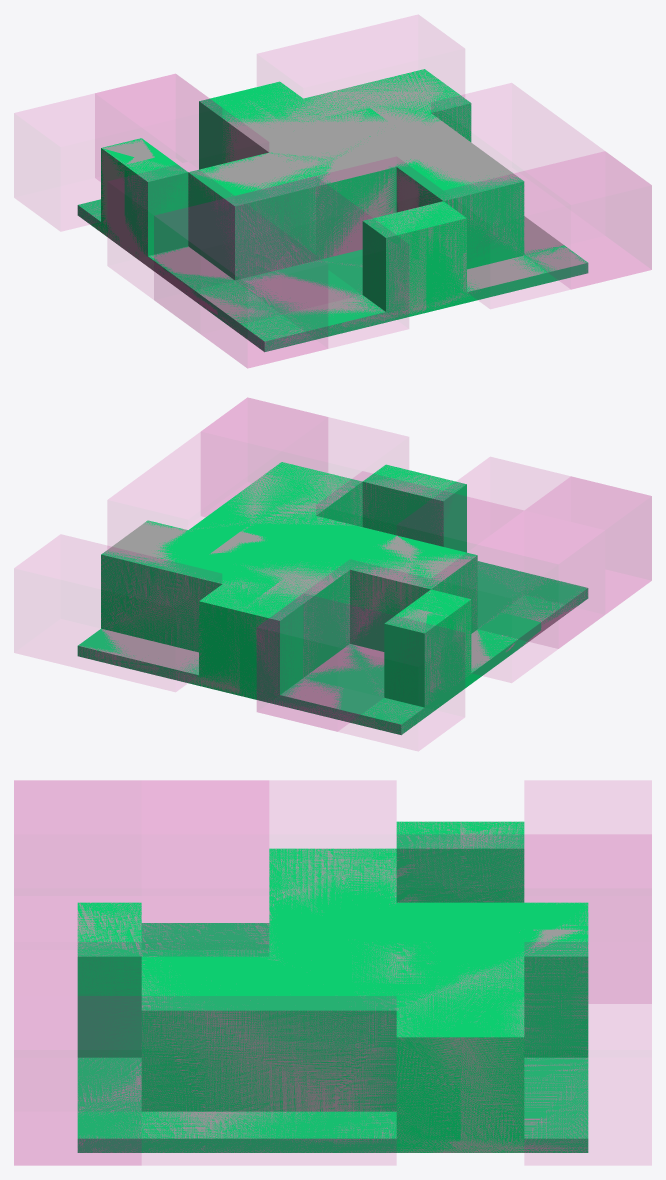
Rendered from tileset_template.fbx_Scene_Scene_Collection.fbx.
3 views of the same model, one above another, from view 1: azimuth 30°, elevation 25°; view 2: azimuth 150°, elevation 25°; view 3: azimuth 270°, elevation 25° (orthographic). The views are drawn at different scales.
Visible parts, largest first — view 1: BaseShape, Cube.006, Cube.007, Cube.005, Row2Col0Shape, Cube.002, Row3Col1Shape, Row2Col2Shape, Row2Col1Shape, Row3Col3Shape, Row1Col2Shape, Row1Col0Shape (+12 smaller); view 2: BaseShape, Cube.006, Row0Col3Shape, Cube.007, Cube.005, Row0Col1Shape, Row1Col1Shape, Row0Col2Shape, Cube.004, Cube.003, Cube.002, Row1Col0Shape (+13 smaller); view 3: BaseShape, Cube.006, Row2Col3Shape, Row1Col3Shape, Cube.005, Row0Col3Shape, Cube.002, Row3Col3Shape, Cube.007, Row0Col2Shape, Cube.004, Row1Col0Shape (+9 smaller).
Boxes of the visible parts, box(x1,y1,x2,y2) form: BaseShape: box(77, 69, 588, 351); Cube.006: box(257, 15, 464, 97); Cube.007: box(14, 94, 100, 230); Cube.005: box(431, 83, 603, 172); Row2Col0Shape: box(171, 179, 298, 315); Cube.002: box(108, 162, 233, 298); Row3Col1Shape: box(299, 211, 426, 329); Row2Col2Shape: box(333, 140, 460, 250); Row2Col1Shape: box(252, 160, 362, 287); Row3Col3Shape: box(461, 164, 587, 282); Row1Col2Shape: box(286, 106, 413, 159); Row1Col0Shape: box(124, 160, 251, 283); BaseShape: box(77, 462, 588, 734); Cube.006: box(14, 535, 221, 691); Row0Col3Shape: box(78, 537, 184, 675); Cube.007: box(338, 614, 464, 750); Cube.005: box(108, 432, 204, 545); Row0Col1Shape: box(240, 577, 360, 714); Row1Col1Shape: box(287, 558, 412, 670); Row0Col2Shape: box(158, 567, 285, 695); Cube.004: box(328, 418, 408, 477); Cube.003: box(445, 457, 569, 509); Cube.002: box(431, 545, 556, 682); Row1Col0Shape: box(369, 563, 493, 686); BaseShape: box(77, 821, 588, 1152); Cube.006: box(525, 942, 651, 1164); Row2Col3Shape: box(205, 1000, 332, 1152); Row1Col3Shape: box(333, 983, 460, 1152); Cube.005: box(141, 996, 395, 1164); Row0Col3Shape: box(460, 983, 588, 1152); Cube.002: box(270, 781, 395, 847); Row3Col3Shape: box(77, 984, 205, 1152); Cube.007: box(525, 781, 651, 833); Row0Col2Shape: box(461, 929, 588, 1084); Cube.004: box(14, 942, 140, 995); Row1Col0Shape: box(333, 821, 460, 902).
Bounding box in the file's own units: 1000 × 225 × 1000.
